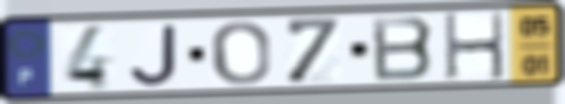4: (58, 23, 118, 92)
7: (283, 16, 345, 87)
B: (368, 14, 437, 83)
H: (441, 10, 508, 83)
J: (127, 23, 181, 88)
O: (208, 19, 273, 87)
